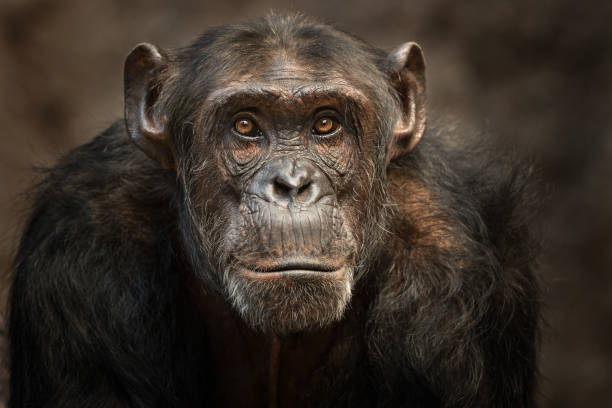chimpanzee: (75, 9, 477, 363)
